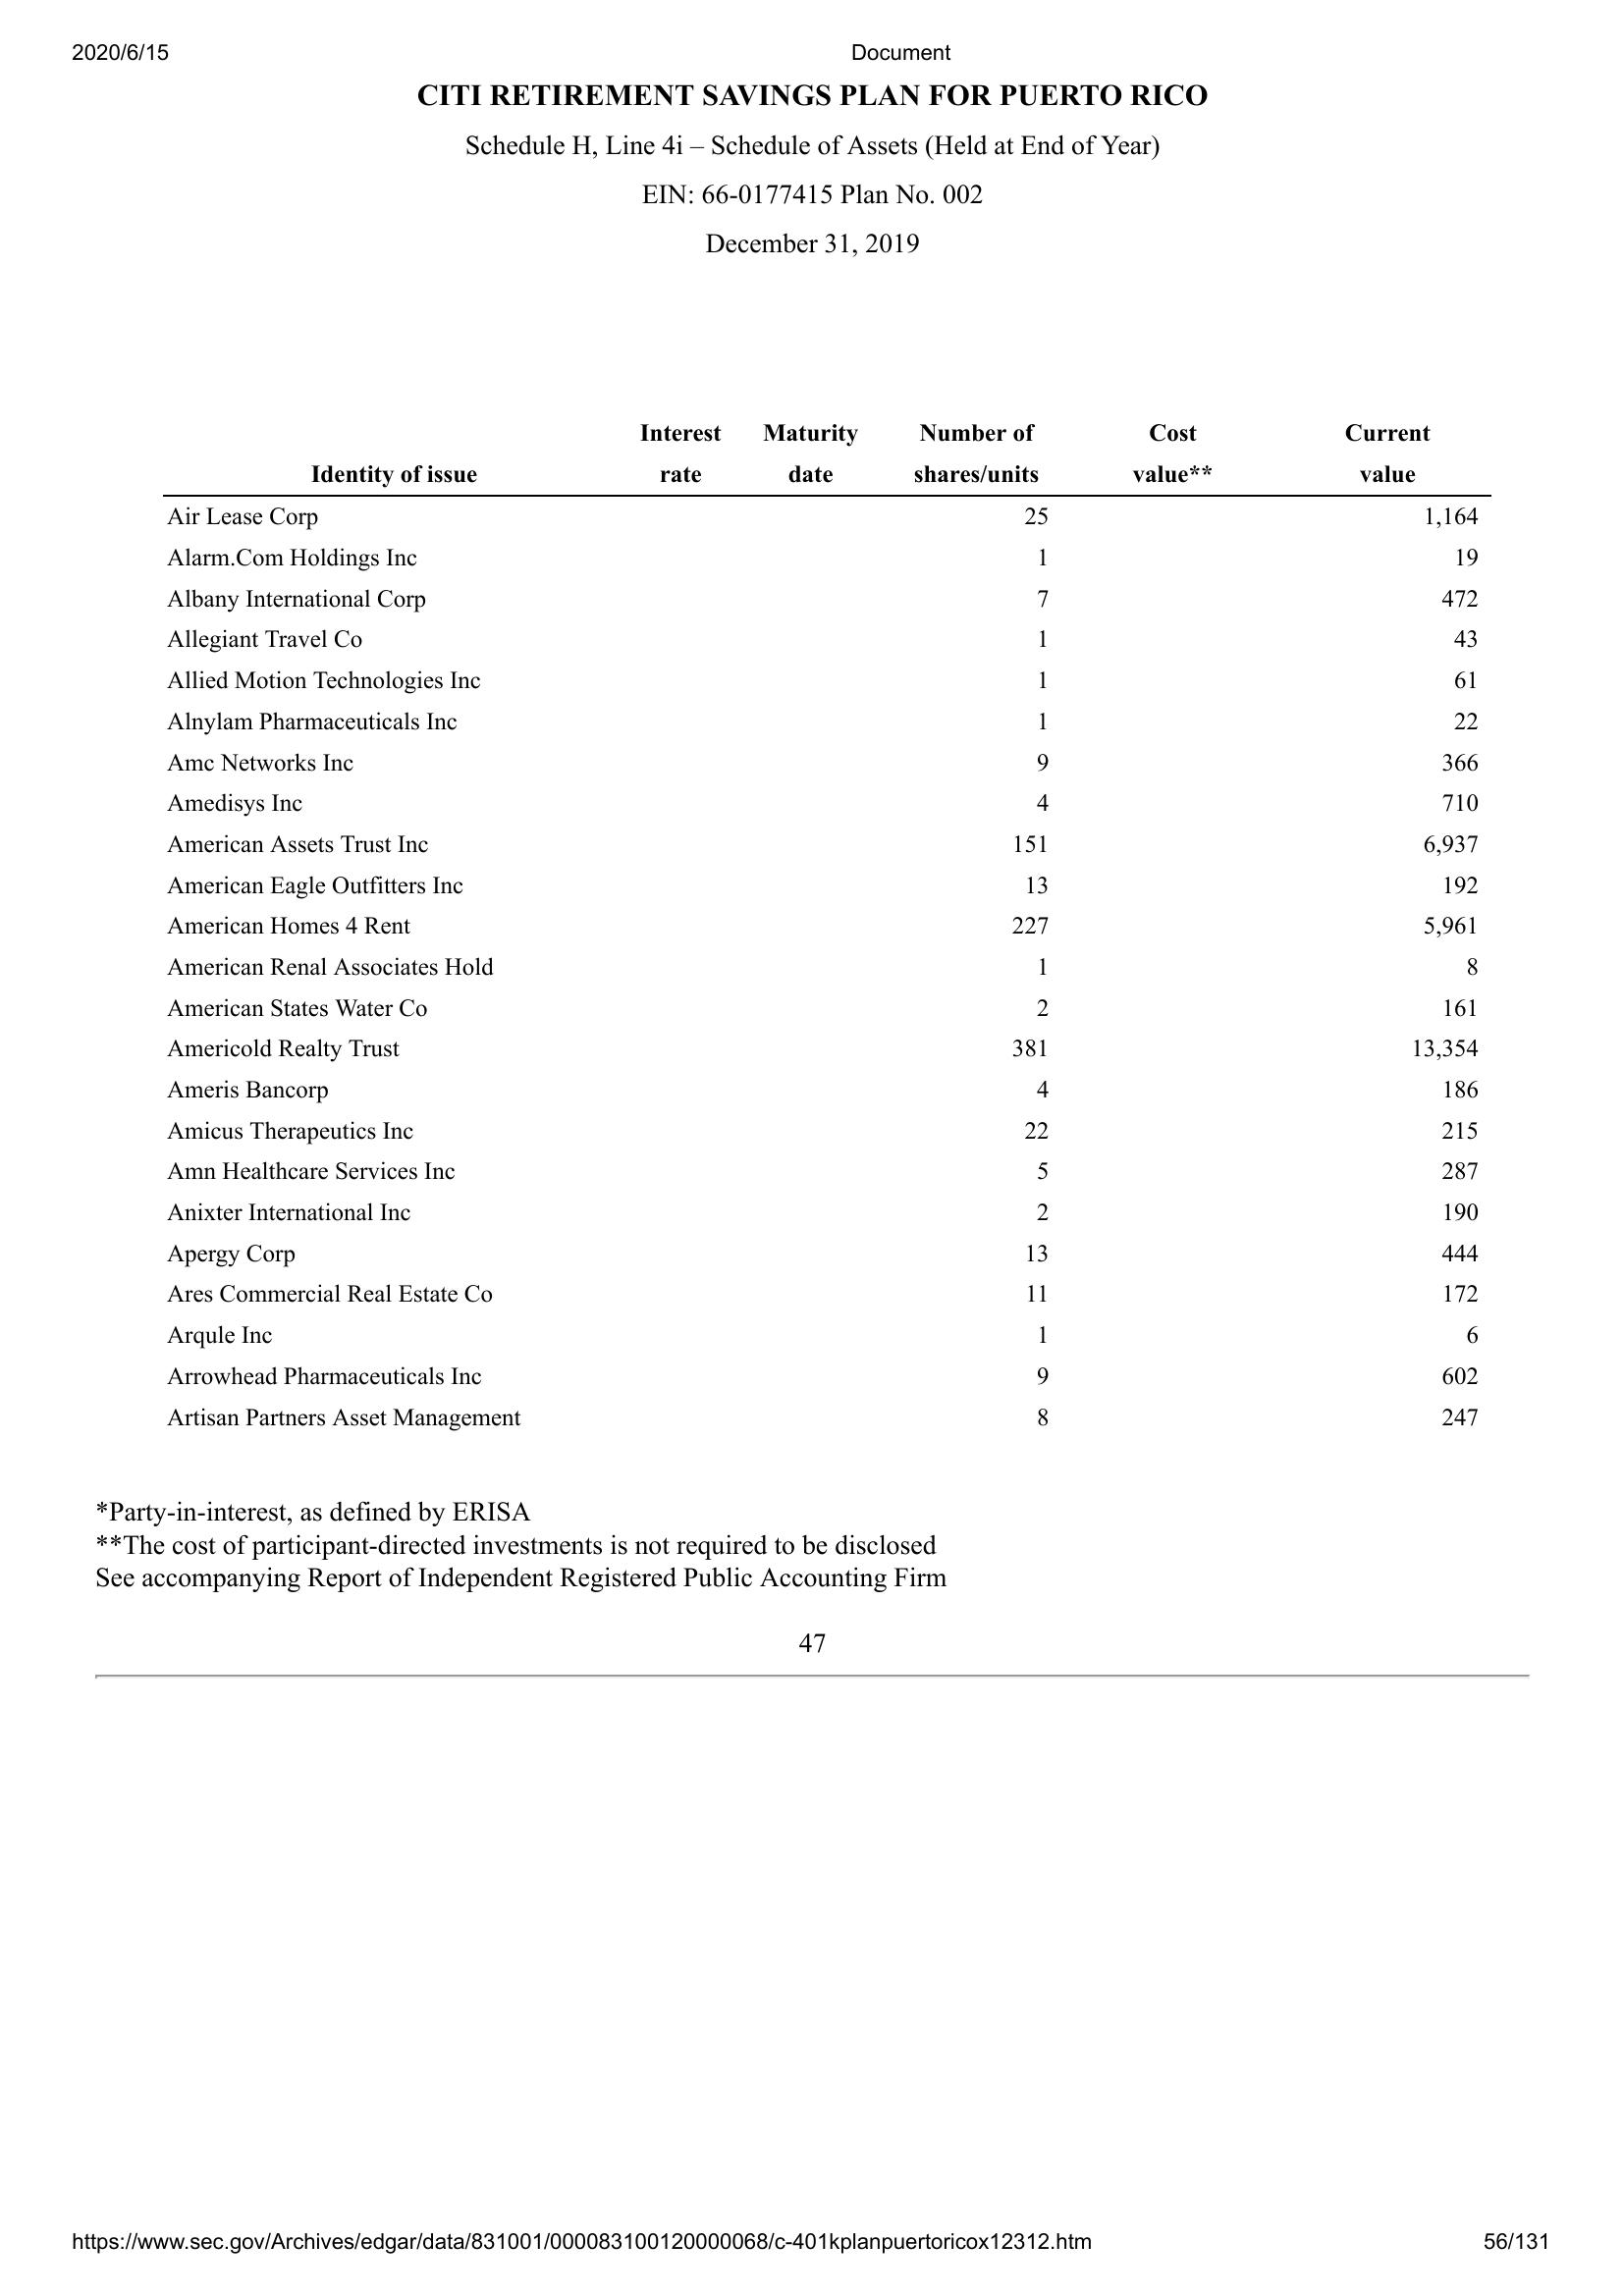table: (156, 413, 1486, 1441)
